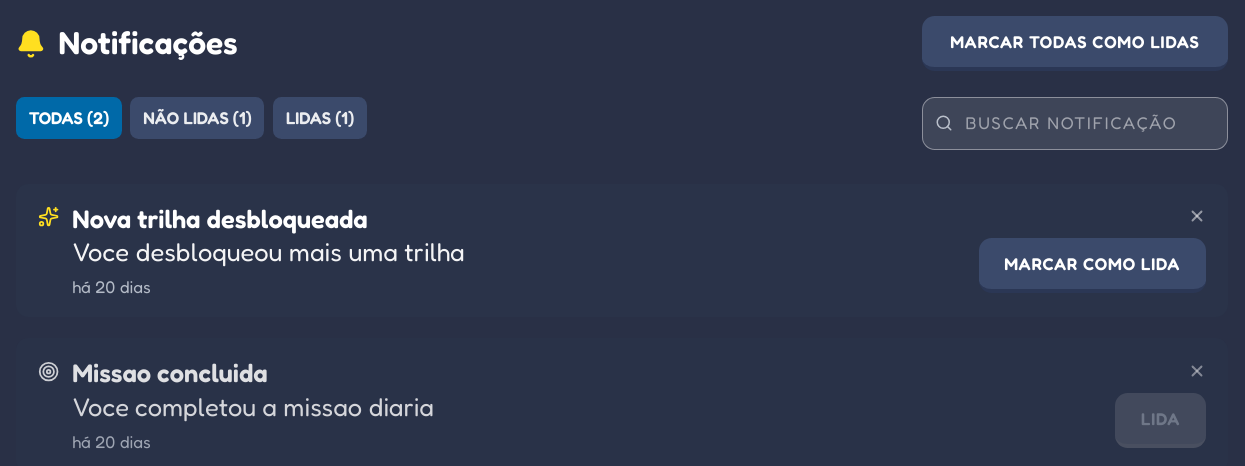
it: NotificationsPage › deve excluir uma notificacao da lista
Expected: the heading "Nova trilha desbloqueada" is shown, [72,202,368,234]
Expected: the heading "Missao concluida" is shown, [72,358,268,388]
Click the button named "Excluir notificação Nova trilha desbloqueada": x=1197, y=216 [1188,208,1206,226]
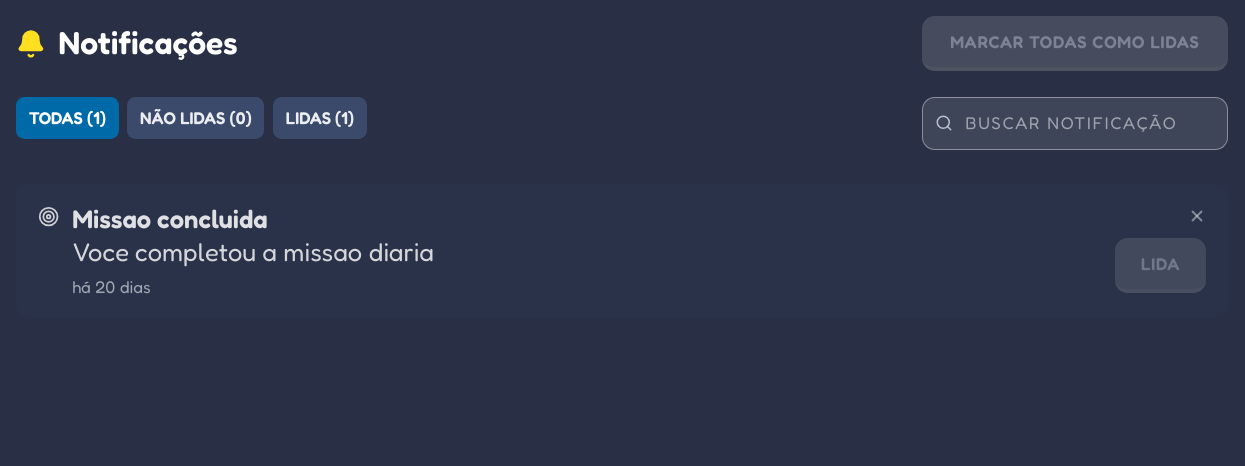
Expected: the heading "Missao concluida" is shown, [72,202,268,234]
Result: the heading "Nova trilha desbloqueada" is gone
Result: the button "TODAS (1)" is shown at [16,96,119,139]
